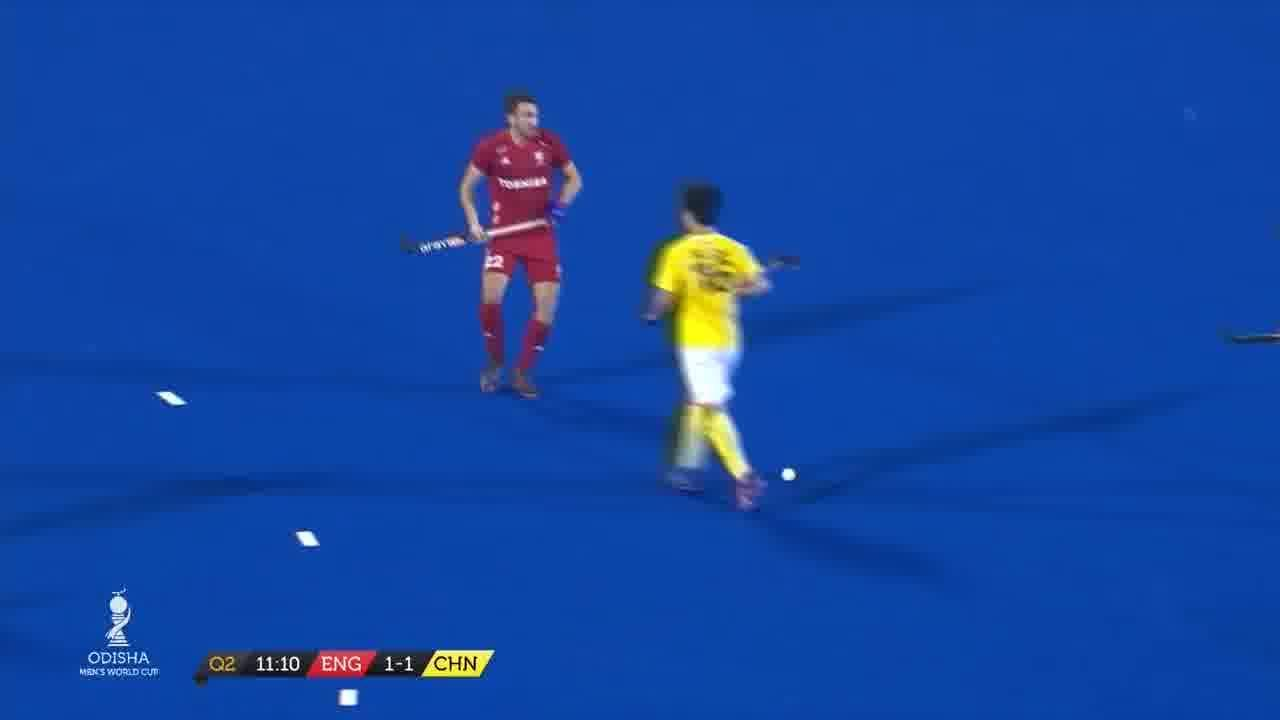ball: (782, 462, 800, 482)
